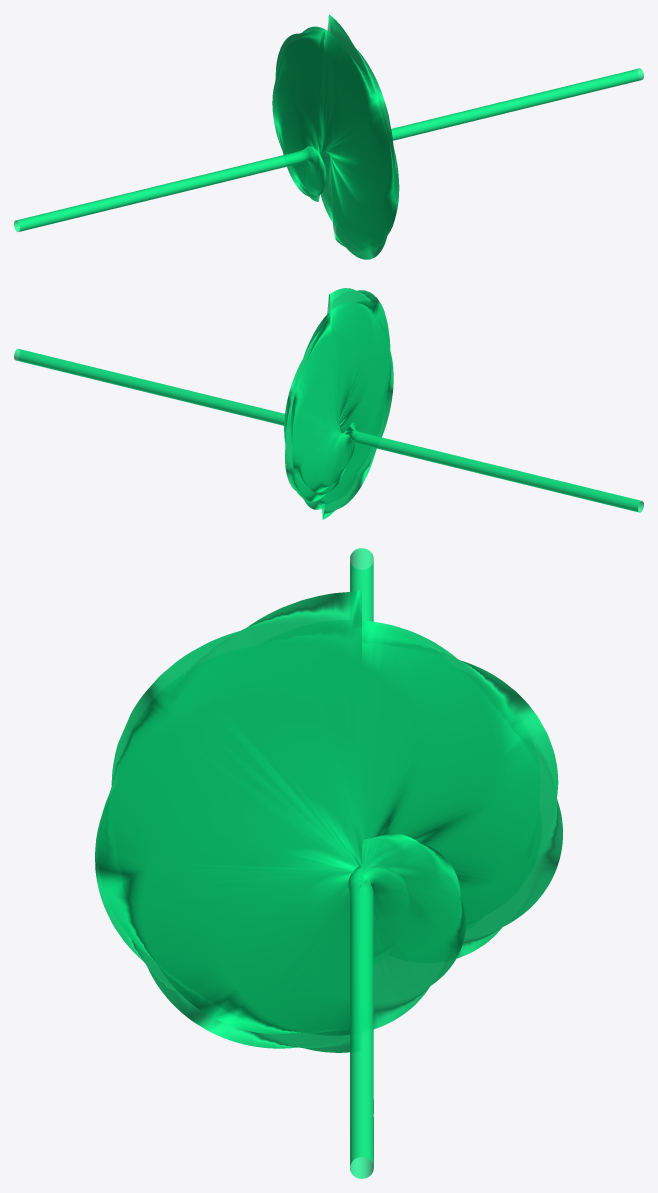
Rendered from quantum_wave.glb.
3 views of the same model, one above another, from view 1: azimuth 30°, elevation 25°; view 2: azimuth 150°, elevation 25°; view 3: azimuth 270°, elevation 25° (orthographic). The views are drawn at different scales.
Visible parts, largest first — view 1: MathShape_0; view 2: MathShape_0; view 3: MathShape_0.
Part boxes in pixels (x1=…): MathShape_0: x1=14, y1=14, x2=643, y2=259; MathShape_0: x1=14, y1=288, x2=643, y2=519; MathShape_0: x1=95, y1=548, x2=562, y2=1178.
Bounding box in the file's own units: 60 × 20.92 × 19.49.
